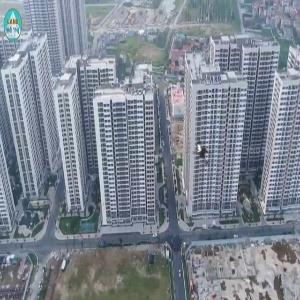drone: (176, 124, 235, 183)
